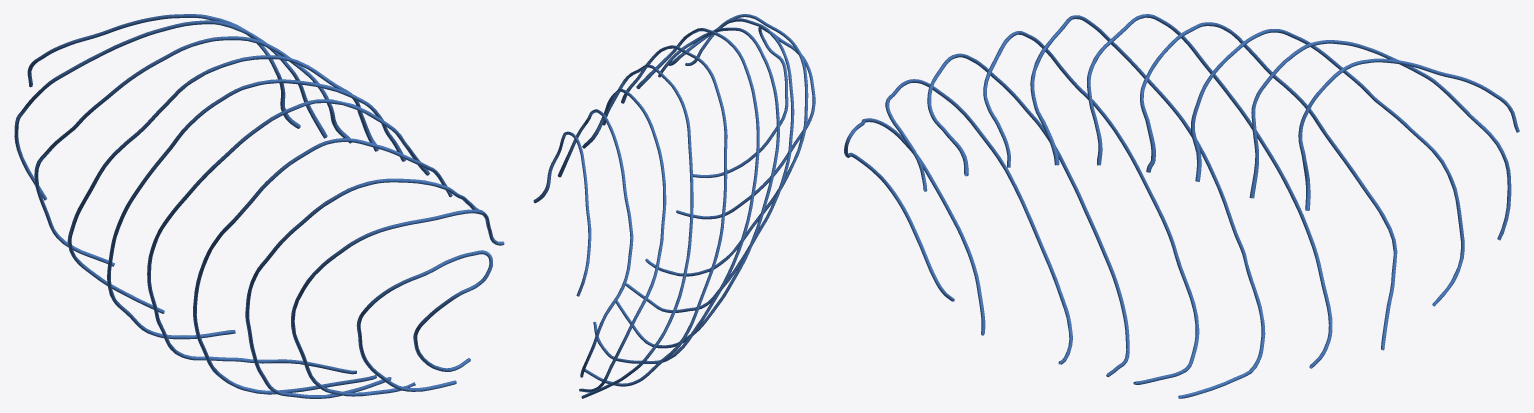
3 renders of one model, left to right at view 1: azimuth 30°, elevation 25°; view 2: azimuth 150°, elevation 25°; view 3: azimuth 270°, elevation 25°, orthographic. The views are drawn at different scales.
Parts seen in each view (by area): view 1: 右肋间上静脉; view 2: 右肋间上静脉; view 3: 右肋间上静脉.
Part boxes in pixels (box(x1,y1,x2,y2)): 右肋间上静脉: box(14, 14, 504, 398); 右肋间上静脉: box(533, 14, 815, 398); 右肋间上静脉: box(844, 14, 1519, 398).
Size of the model in its own units: 0.1875 by 0.2898 by 0.5253.
